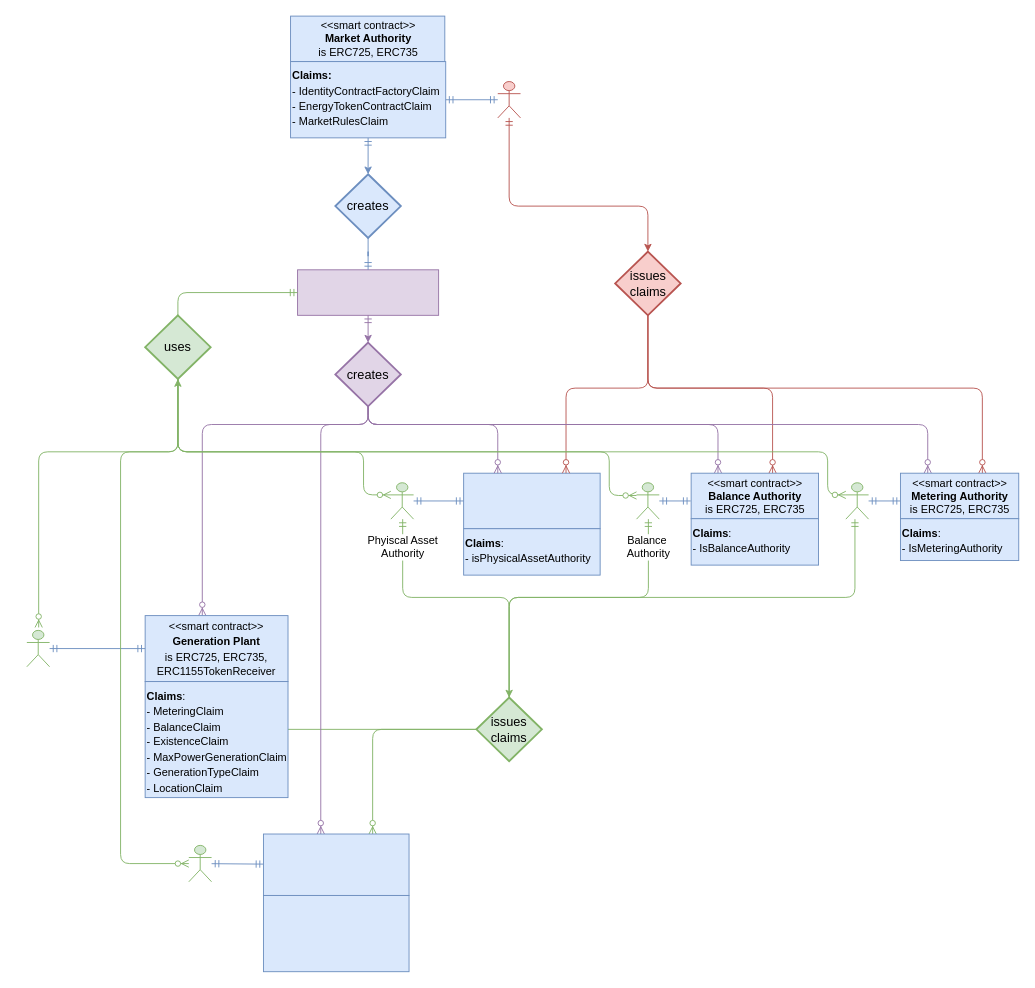
Image size: 1035x988. Some labels were removed from this diagram. The shapes that lost their labels are listed below. From the top down, each one's box as (x1, y1, x2, y2) in pixels, then its label:
(497, 81, 521, 118): Market Authority
(297, 269, 439, 315): <<smart contract>> Identity Contract Factory
(463, 472, 600, 529): <<smart contract>> Physical Asset Authority is ERC725, ERC735
(845, 482, 869, 519): Metering Authority
(26, 629, 50, 667): Producer
(188, 844, 212, 882): Consumer
(263, 833, 409, 895): <<smart contract>> Consumption Plant is ERC725, ERC735, ERC1155TokenReceiver
(263, 895, 409, 972): Claims : - MeteringClaim - BalanceClaim - ExistenceClaim
